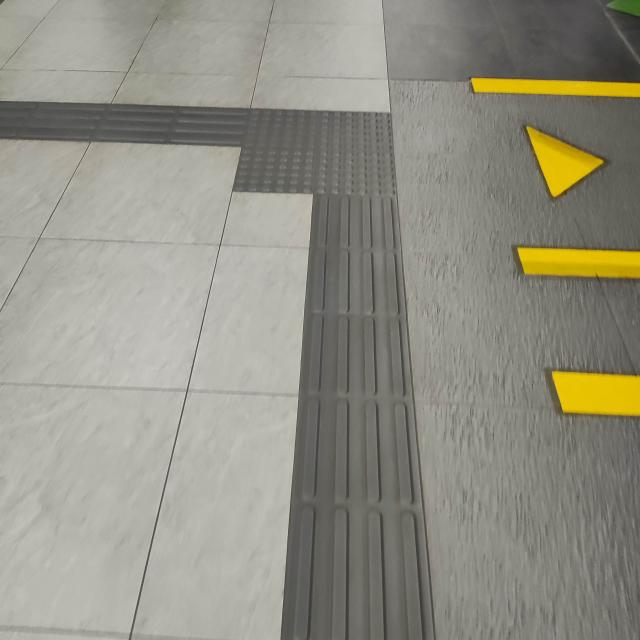kiri: (92, 83, 458, 247)
